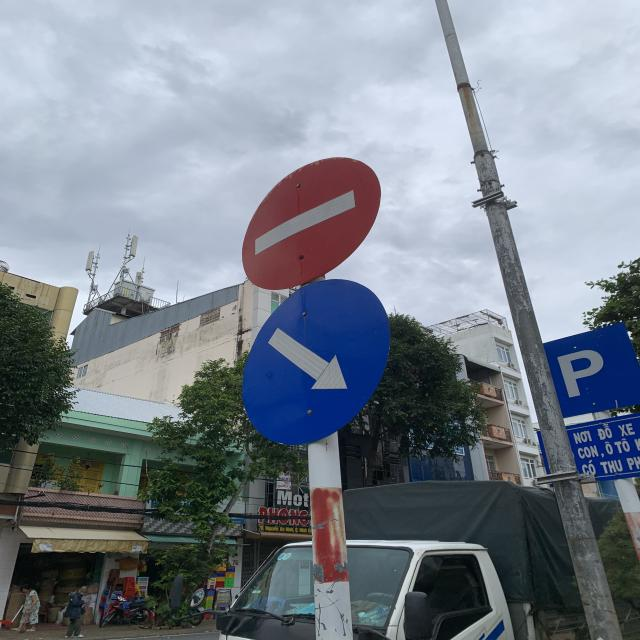Cam_Di_Nguoc_Chieu: (240, 157, 382, 290)
Chi_Huong_Di_Phai: (240, 278, 388, 439)
